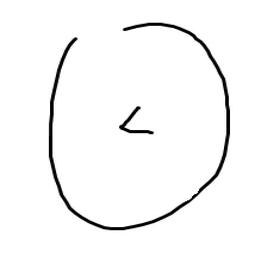pointy_nose: (113, 97, 153, 137)
